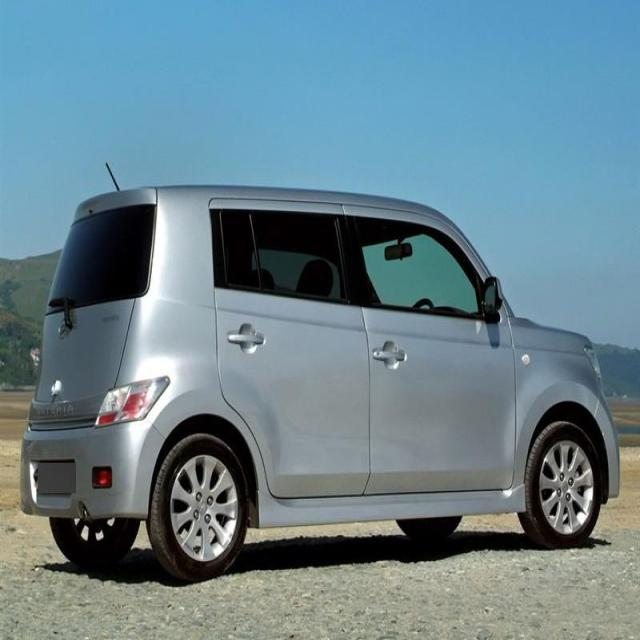back_glass: (44, 202, 158, 317)
back_right_side_light: (94, 375, 171, 430)
door: (210, 198, 374, 502)
front_right_side_door: (340, 201, 518, 499)
front_right_side_light: (582, 343, 604, 387)
front_right_side_mirror: (480, 275, 504, 322)
rear_bumper: (20, 417, 166, 519), (49, 516, 139, 563)
